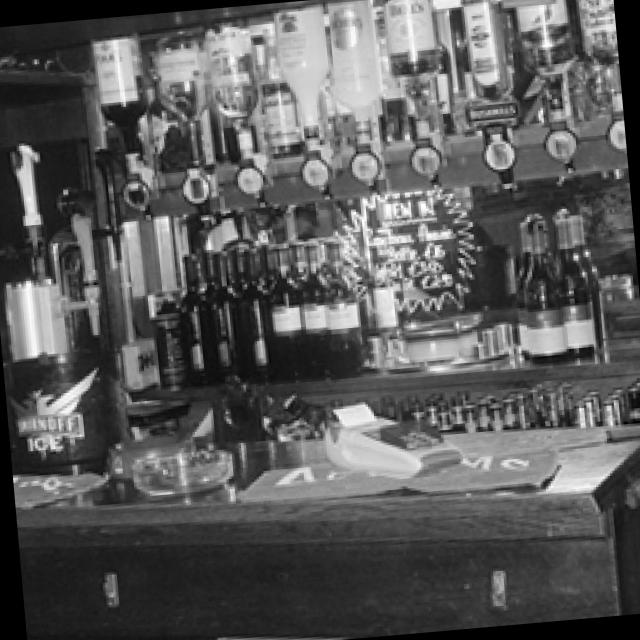ashtray: (127, 447, 228, 495)
bottle crop: (84, 32, 148, 179), (380, 0, 439, 144), (149, 34, 210, 168), (201, 15, 256, 159), (325, 0, 377, 150), (270, 1, 325, 142), (456, 0, 508, 142), (178, 253, 212, 381)
bottles occluded: (197, 233, 362, 381), (516, 206, 603, 356)
bottles of olive oil: (312, 373, 640, 429)
calculator: (320, 402, 460, 478)
furniture crop: (9, 420, 640, 640)
